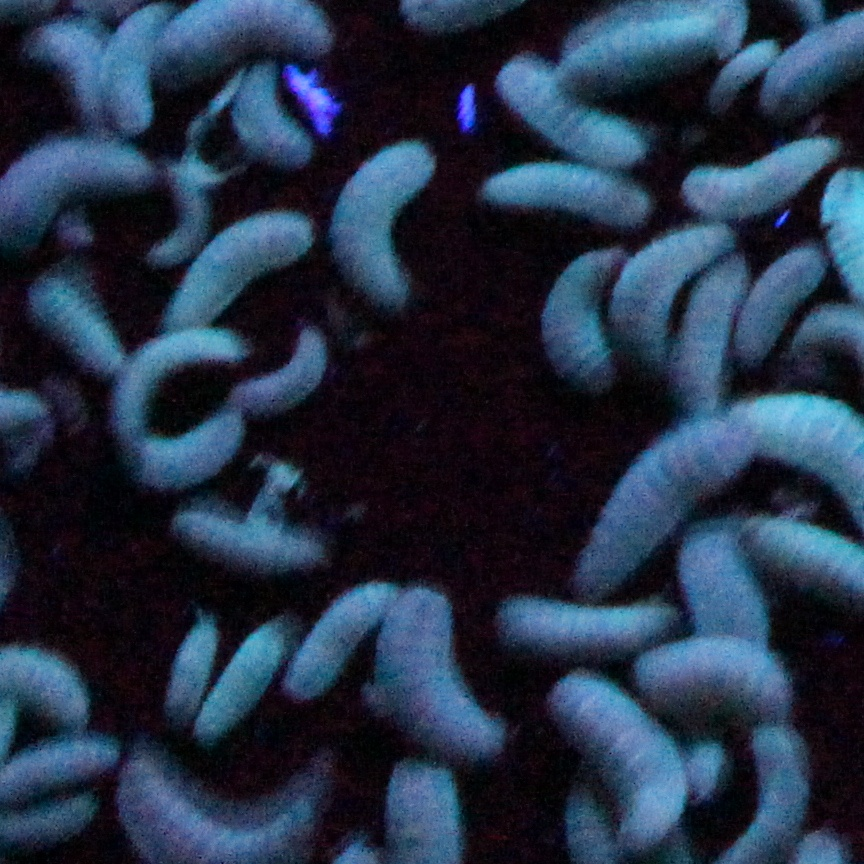larve: (579, 411, 754, 578), (118, 757, 335, 864), (393, 603, 518, 764), (561, 682, 679, 839), (508, 57, 640, 168), (336, 150, 418, 321), (168, 211, 293, 318), (115, 328, 240, 432), (690, 136, 829, 225), (708, 721, 797, 857), (508, 589, 672, 660), (533, 243, 618, 378), (636, 646, 804, 714), (676, 253, 747, 382), (190, 510, 336, 571), (1, 725, 111, 800), (736, 246, 815, 346), (486, 168, 640, 214), (204, 628, 286, 714), (111, 428, 254, 471), (36, 36, 97, 118), (168, 632, 218, 714)
